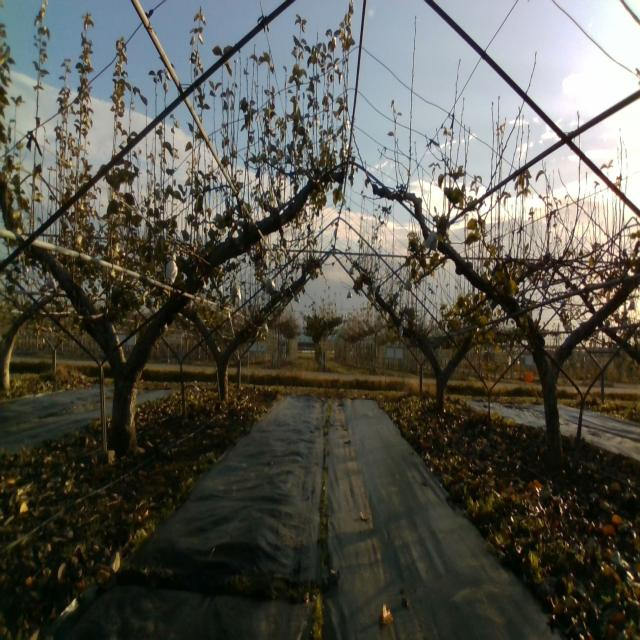pearbags: (423, 230, 439, 251), (165, 260, 178, 285), (230, 279, 241, 305)
